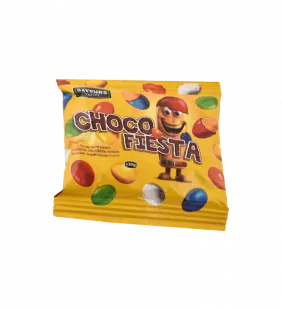SAVEURS: (44, 68, 236, 237)
